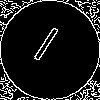I: (25, 25, 62, 71)
